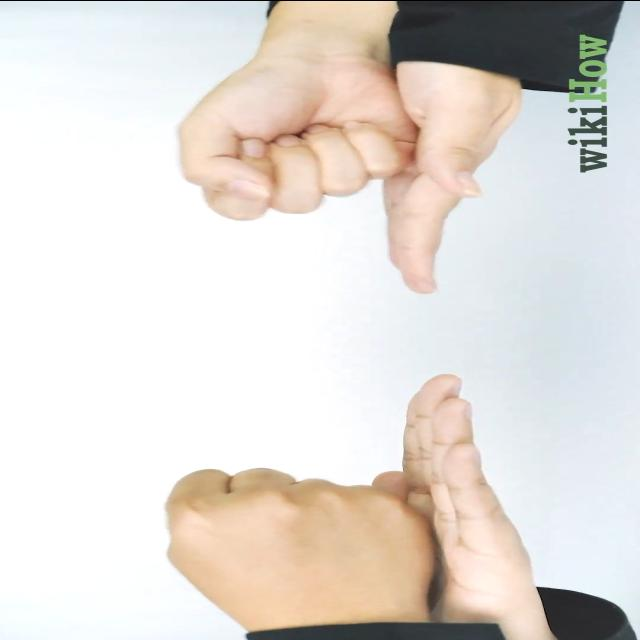Rock: (158, 465, 444, 625), (175, 48, 418, 221)
